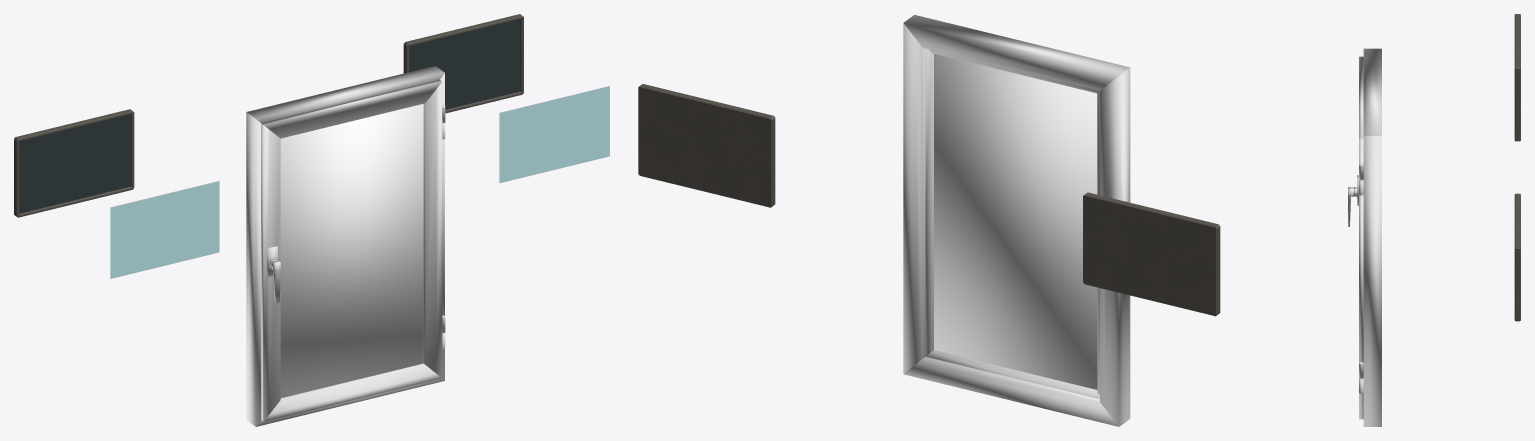
The model's file is single_window.glb.
3 renders of one model, left to right at view 1: azimuth 30°, elevation 25°; view 2: azimuth 150°, elevation 25°; view 3: azimuth 270°, elevation 25°, orthographic. The views are drawn at different scales.
Parts seen in each view (by area): view 1: Simple White Single Window, Solid 25, Blender Bros Sci-Fi UI Pack_018, Blender Bros Sci-Fi UI Pack_009; view 2: Simple White Single Window, Solid 25; view 3: Simple White Single Window, Solid 25.
Boxes of the visible parts, x1=… form: Simple White Single Window: x1=246, y1=66, x2=445, y2=426; Solid 25: x1=14, y1=14, x2=523, y2=217; Blender Bros Sci-Fi UI Pack_018: x1=110, y1=181, x2=219, y2=278; Blender Bros Sci-Fi UI Pack_009: x1=499, y1=86, x2=609, y2=183; Simple White Single Window: x1=903, y1=15, x2=1130, y2=426; Solid 25: x1=638, y1=84, x2=1220, y2=316; Simple White Single Window: x1=1348, y1=48, x2=1381, y2=426; Solid 25: x1=1514, y1=14, x2=1520, y2=321.
Size of the model in its own units: 2.42 by 1.4 by 0.7626.
6 materials, 3 textured.
